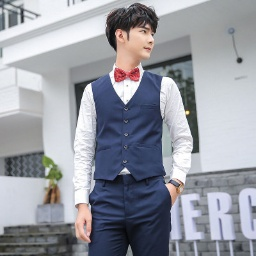face: (104, 2, 159, 60)
